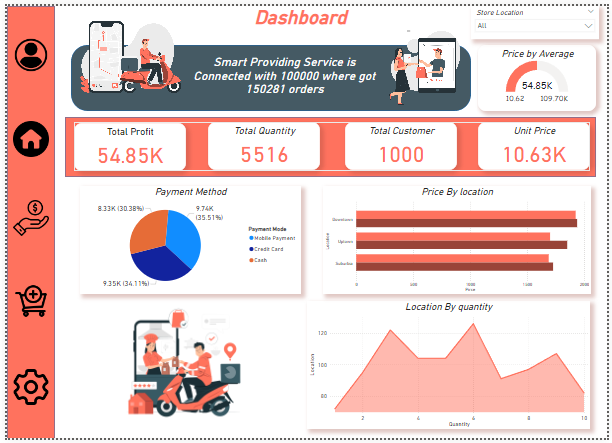

The dashboard page shown, as its layout file describes it:
{"tool":"powerbi","page":{"name":"Page 2","canvas":[1500,1080],"ordinal":1},"visuals":[{"type":"textbox","title":"Dashboard","box":[455,0,557.5,70],"z":0},{"type":"shape","box":[0,0,120,1140],"z":1000},{"type":"image","box":[10,67.5,100,110],"z":2000},{"type":"shape","box":[160,97.5,1000,165],"z":3000},{"type":"textbox","title":"Smart Providing Service is Connected with 100000 where got 150281 orders","box":[440,122.5,507.5,115],"z":4000},{"type":"image","box":[10,277.5,100,110],"z":5000},{"type":"image","box":[10,682.5,100,110],"z":6000},{"type":"image","box":[130,7.5,337.5,235],"z":7000},{"type":"shape","box":[865,200,140,40],"z":8000},{"type":"image","box":[10,897.5,100,110],"z":9000},{"type":"image","box":[10,475,100,110],"z":10000},{"type":"slicer","title":"Store Location","fields":{"Values":["data.store_location"]},"box":[1160,0,320,82.5],"z":11000},{"type":"clusteredBarChart","title":"Price By location","fields":{"Category":["data.store_location"],"Y":["Sum(data.unit_price)","Sum(data.quantity)"]},"box":[790,450,670,270],"z":12000},{"type":"pieChart","title":"Payment Method","fields":{"Category":["data.payment_method"],"Y":["Sum(data.total_price)"]},"box":[182.5,450,552.5,270],"z":13000},{"type":"shape","box":[145,277.5,1327.5,150],"z":14000},{"type":"stackedAreaChart","title":"Location By quantity ","fields":{"Category":["data.quantity"],"Y":["CountNonNull(data.store_location)"]},"box":[750,737.5,707.5,320],"z":15000},{"type":"image","box":[935,52.5,217.5,210],"z":16000},{"type":"gauge","title":"Price by Average","fields":{"Y":["Sum(data.total_price)"],"MinValue":["Avg(data.unit_price)"]},"box":[1177.5,97.5,295,165],"z":17000},{"type":"image","box":[182.5,737.5,515,317.5],"z":18000},{"type":"card","title":"Total Profit","fields":{"Values":["Sum(data.total_price)"]},"box":[167.5,292,280,120],"z":18500,"group":"g1"},{"type":"card","title":"Total Quantity","fields":{"Values":["Sum(data.quantity)"]},"box":[502.5,290,280,120],"z":19000,"group":"g1"},{"type":"group","id":"g1","title":"Group 1","box":[167.5,290,1290,122],"z":19000},{"type":"card","title":"Total Customer","fields":{"Values":["Count(data.transaction_id)"]},"box":[845,290,280,120],"z":19500,"group":"g1"},{"type":"card","title":"Unit Price","fields":{"Values":["Sum(data.unit_price)"]},"box":[1177.5,290,280,120],"z":20000,"group":"g1"}]}

Visuals, with their boxes in screenshot pixels (x1, y1, x2, y2), scaled from the page's 1500x1080 canvas onto the 612x443 screenshot:
"Dashboard" textbox: left=186, top=0, right=413, bottom=29
shape: left=0, top=0, right=49, bottom=442
image: left=4, top=28, right=45, bottom=73
shape: left=65, top=40, right=473, bottom=108
"Smart Providing Service is Connected with 100000 where got 150281 orders" textbox: left=180, top=50, right=387, bottom=97
image: left=4, top=114, right=45, bottom=159
image: left=4, top=280, right=45, bottom=325
image: left=53, top=3, right=191, bottom=99
shape: left=353, top=82, right=410, bottom=98
image: left=4, top=368, right=45, bottom=413
image: left=4, top=195, right=45, bottom=240
"Store Location" slicer: left=473, top=0, right=604, bottom=34
"Price By location" clusteredBarChart: left=322, top=185, right=596, bottom=295
"Payment Method" pieChart: left=74, top=185, right=300, bottom=295
shape: left=59, top=114, right=601, bottom=175
"Location By quantity " stackedAreaChart: left=306, top=303, right=595, bottom=434
image: left=381, top=22, right=470, bottom=108
"Price by Average" gauge: left=480, top=40, right=601, bottom=108
image: left=74, top=303, right=285, bottom=433
"Total Profit" card: left=68, top=120, right=183, bottom=169
"Total Quantity" card: left=205, top=119, right=319, bottom=168
"Group 1" group: left=68, top=119, right=595, bottom=169
"Total Customer" card: left=345, top=119, right=459, bottom=168
"Unit Price" card: left=480, top=119, right=595, bottom=168
